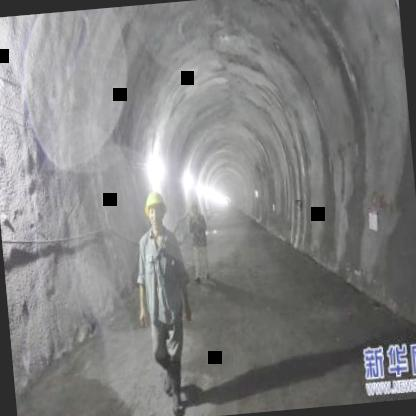helmet: (142, 188, 170, 236)
